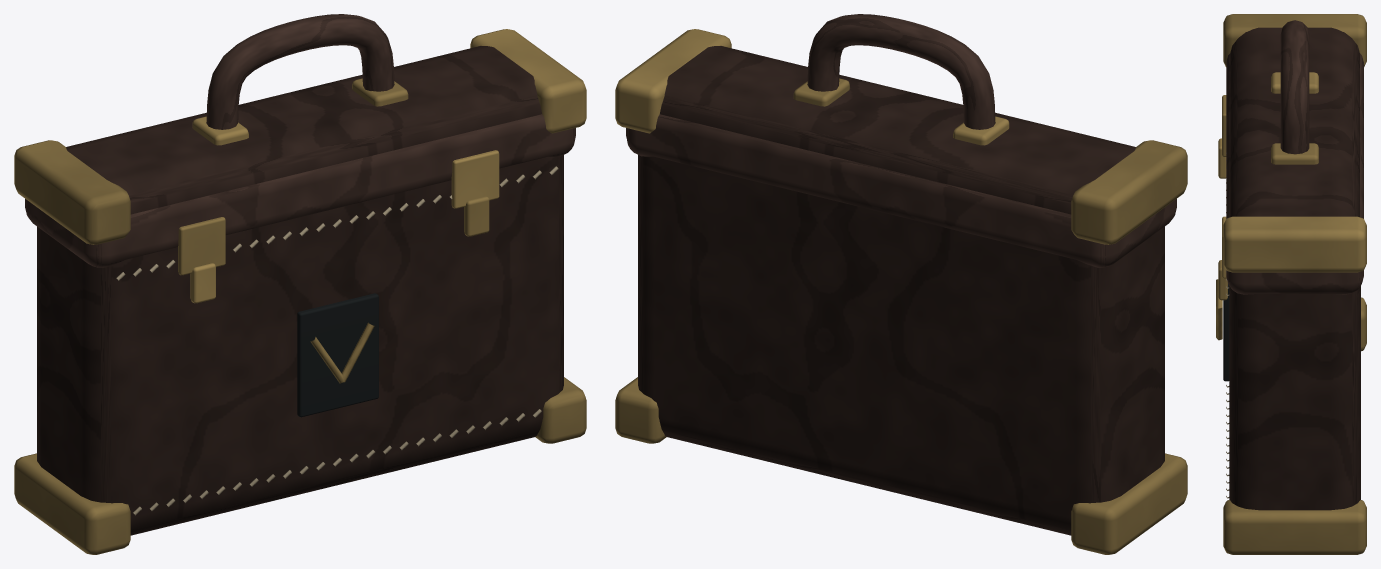
The picture shows the model from 3 angles, left to right: view 1: azimuth 30°, elevation 25°; view 2: azimuth 150°, elevation 25°; view 3: azimuth 270°, elevation 25°; orthographic projection. The views are drawn at different scales.
Parts seen in each view (by area): view 1: oiled dark leather, aged brass fittings, waxed leather, recesses, linen thread; view 2: oiled dark leather, waxed leather, aged brass fittings; view 3: oiled dark leather, aged brass fittings, waxed leather, recesses.
Part boxes in pixels (left/top/right/bottom): oiled dark leather: left=37, top=46, right=563, bottom=535; aged brass fittings: left=14, top=29, right=586, bottom=554; waxed leather: left=25, top=14, right=575, bottom=267; recesses: left=297, top=293, right=378, bottom=417; linen thread: left=116, top=166, right=558, bottom=515; oiled dark leather: left=638, top=46, right=1164, bottom=535; waxed leather: left=626, top=14, right=1176, bottom=267; aged brass fittings: left=615, top=29, right=1187, bottom=554; oiled dark leather: left=1229, top=27, right=1360, bottom=510; aged brass fittings: left=1216, top=14, right=1366, bottom=554; waxed leather: left=1226, top=20, right=1363, bottom=294; recesses: left=1223, top=284, right=1229, bottom=381.
Bounding box in the file's own units: 0.44 × 0.3769 × 0.126.
5 materials, 4 textured.
